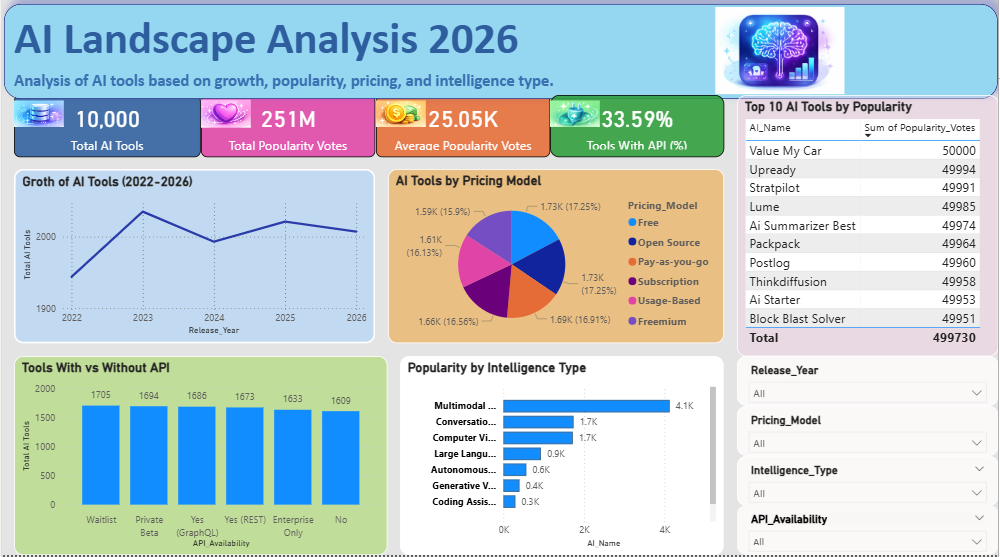

This screenshot's page, from the dashboard's own definition file:
{"tool":"powerbi","page":{"name":"AI Tools Market Overview","canvas":[1280,720],"ordinal":0},"visuals":[{"type":"card","fields":{"Values":["ai_landscape ai_tools.Total Tools"]},"box":[16,128,240,80],"z":0},{"type":"card","fields":{"Values":["ai_landscape ai_tools.Total Popularity"]},"box":[256,128,224,80],"z":1000},{"type":"card","fields":{"Values":["ai_landscape ai_tools.Average Popularity"]},"box":[480,128,224,80],"z":2000},{"type":"textbox","title":"      AI Landscape Analysis 2026               ","box":[2.6,11.6,1277.4,122.1],"z":3000},{"type":"card","fields":{"Values":["ai_landscape ai_tools.% Tools With API"]},"box":[704,128,224,80],"z":4000},{"type":"lineChart","title":"Groth of AI Tools (2022-2026)","fields":{"Category":["ai_landscape ai_tools.Release_Year"],"Y":["ai_landscape ai_tools.Total Tools"]},"box":[16,224,464,224],"z":5000},{"type":"clusteredBarChart","title":"Popularity by Intelligence Type","fields":{"Category":["ai_landscape ai_tools.Intelligence_Type"],"Y":["CountNonNull(ai_landscape ai_tools.AI_Name)"]},"box":[512,464,416,256],"z":6000},{"type":"pieChart","title":" AI Tools by Pricing Model","fields":{"Category":["ai_landscape ai_tools.Pricing_Model"],"Y":["CountNonNull(ai_landscape ai_tools.AI_Name)"]},"box":[496,224,432,224],"z":7000},{"type":"slicer","fields":{"Values":["ai_landscape ai_tools.Release_Year"]},"box":[944,464,336,64],"z":8000},{"type":"slicer","fields":{"Values":["ai_landscape ai_tools.Intelligence_Type"]},"box":[944,592,336,64],"z":9000},{"type":"slicer","fields":{"Values":["ai_landscape ai_tools.Pricing_Model"]},"box":[944,528,336,64],"z":10000},{"type":"slicer","fields":{"Values":["ai_landscape ai_tools.API_Availability"]},"box":[944,656,336,64],"z":11000},{"type":"clusteredColumnChart","title":" Tools With vs Without API ","fields":{"Category":["ai_landscape ai_tools.API_Availability"],"Y":["ai_landscape ai_tools.Total AI Tools"]},"box":[16,464,480,256],"z":12000},{"type":"tableEx","title":"Top 10  AI Tools by Popularity","fields":{"Values":["ai_landscape ai_tools.AI_Name","Sum(ai_landscape ai_tools.Popularity_Votes)"]},"box":[944,128,336,336],"z":13000},{"type":"image","box":[720,16,560,112],"z":14000},{"type":"image","box":[16,128,64,48],"z":15000},{"type":"image","box":[256,128,64,48],"z":16000},{"type":"image","box":[480,128,64,48],"z":17000},{"type":"image","box":[704,128,64,48],"z":18000}]}

Visuals, with their boxes in screenshot pixels (x1, y1, x2, y2), scaled from the page's 1280x720 canvas onto the 1000x557 screenshot:
card - ai_landscape ai_tools.Total Tools: 12:99:200:161
card - ai_landscape ai_tools.Total Popularity: 200:99:375:161
card - ai_landscape ai_tools.Average Popularity: 375:99:550:161
"      AI Landscape Analysis 2026               " textbox: 2:9:999:103
card - ai_landscape ai_tools.% Tools With API: 550:99:725:161
"Groth of AI Tools (2022-2026)" lineChart: 12:173:375:347
"Popularity by Intelligence Type" clusteredBarChart: 400:359:725:556
" AI Tools by Pricing Model" pieChart: 388:173:725:347
slicer - ai_landscape ai_tools.Release_Year: 738:359:999:408
slicer - ai_landscape ai_tools.Intelligence_Type: 738:458:999:507
slicer - ai_landscape ai_tools.Pricing_Model: 738:408:999:458
slicer - ai_landscape ai_tools.API_Availability: 738:507:999:556
" Tools With vs Without API " clusteredColumnChart: 12:359:388:556
"Top 10  AI Tools by Popularity" tableEx: 738:99:999:359
image: 562:12:999:99
image: 12:99:62:136
image: 200:99:250:136
image: 375:99:425:136
image: 550:99:600:136
